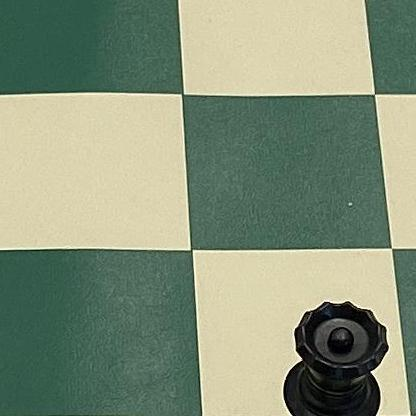black-queen: (241, 299, 394, 416)
